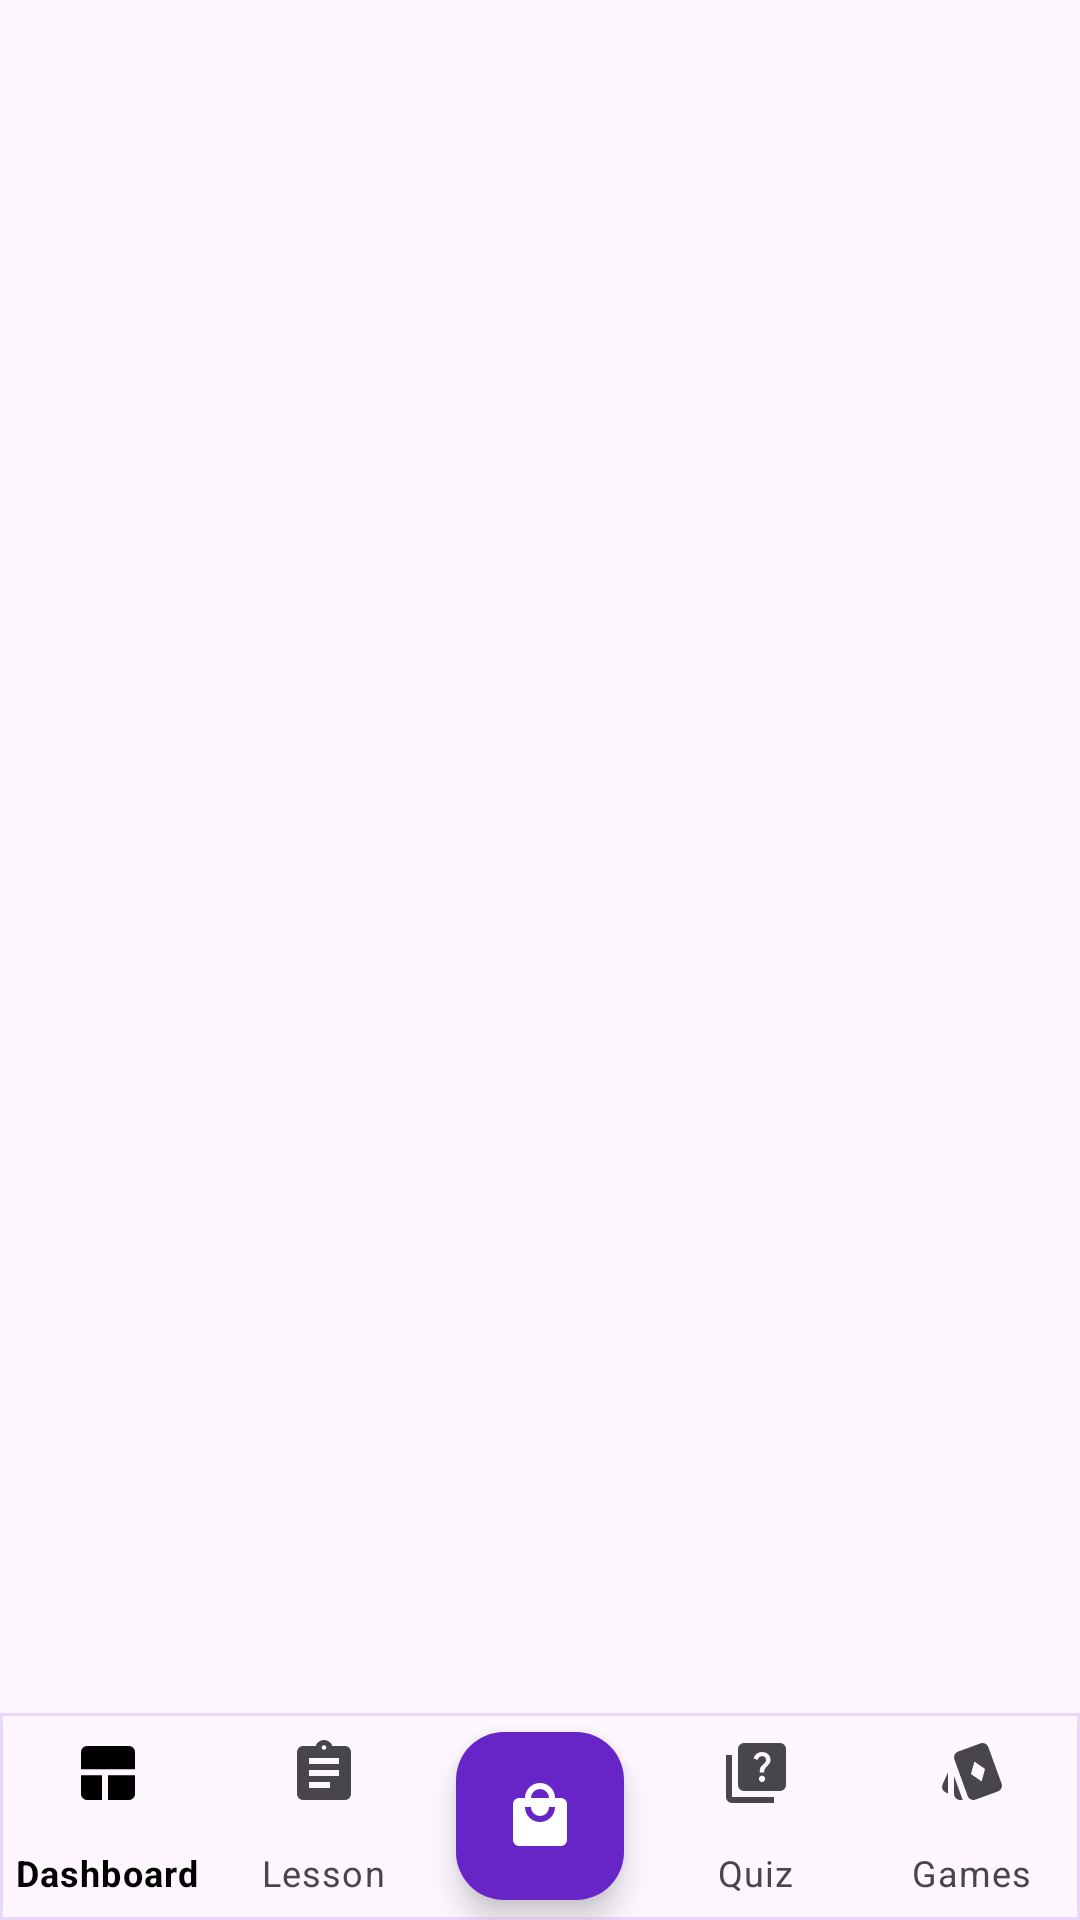

Icon bounding boxes for this 1080w x 1920h phone screenshot, format (x1, y1, x2, y2):
market: (456, 1732, 624, 1900)
